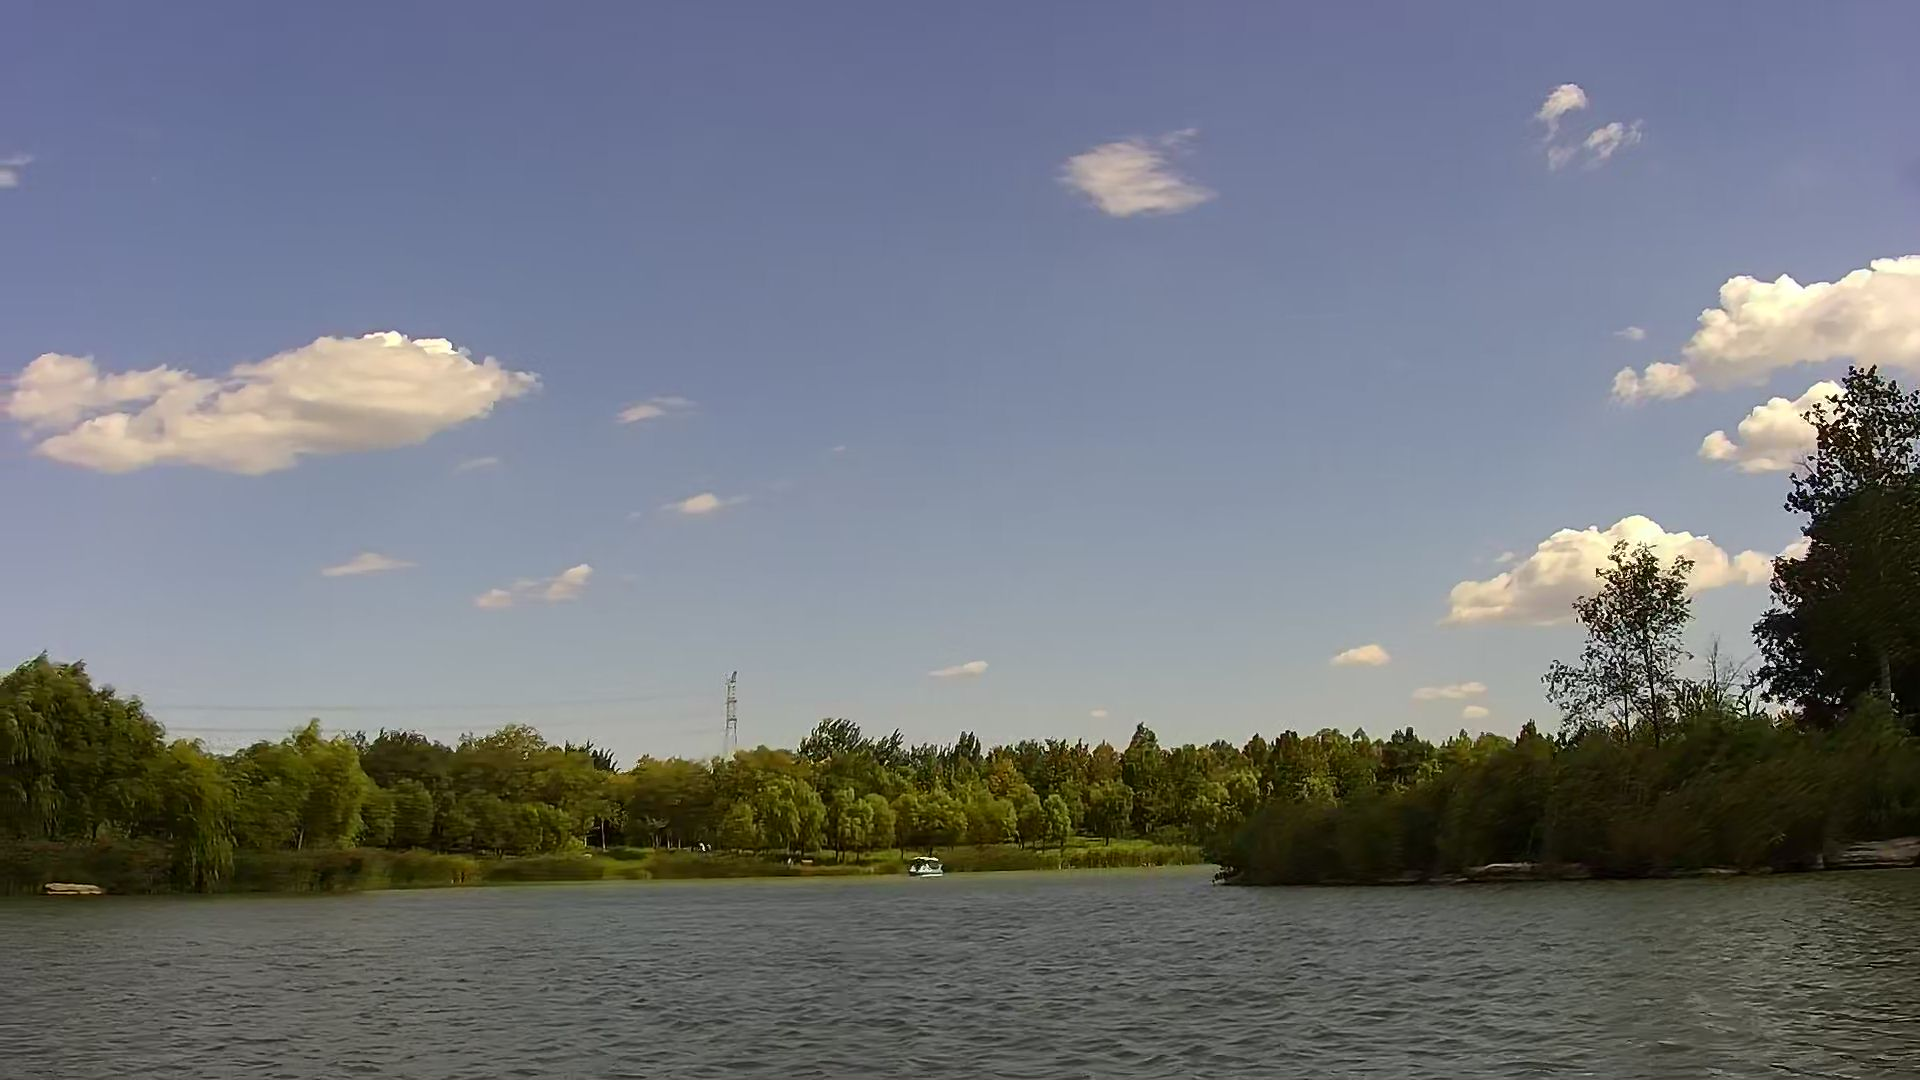boat: (905, 853, 940, 880)
rock: (1826, 839, 1919, 869), (1474, 858, 1551, 880), (1700, 862, 1755, 881), (46, 881, 98, 899)
